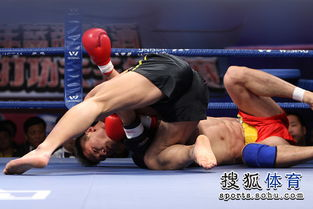fall: (17, 38, 313, 173)
